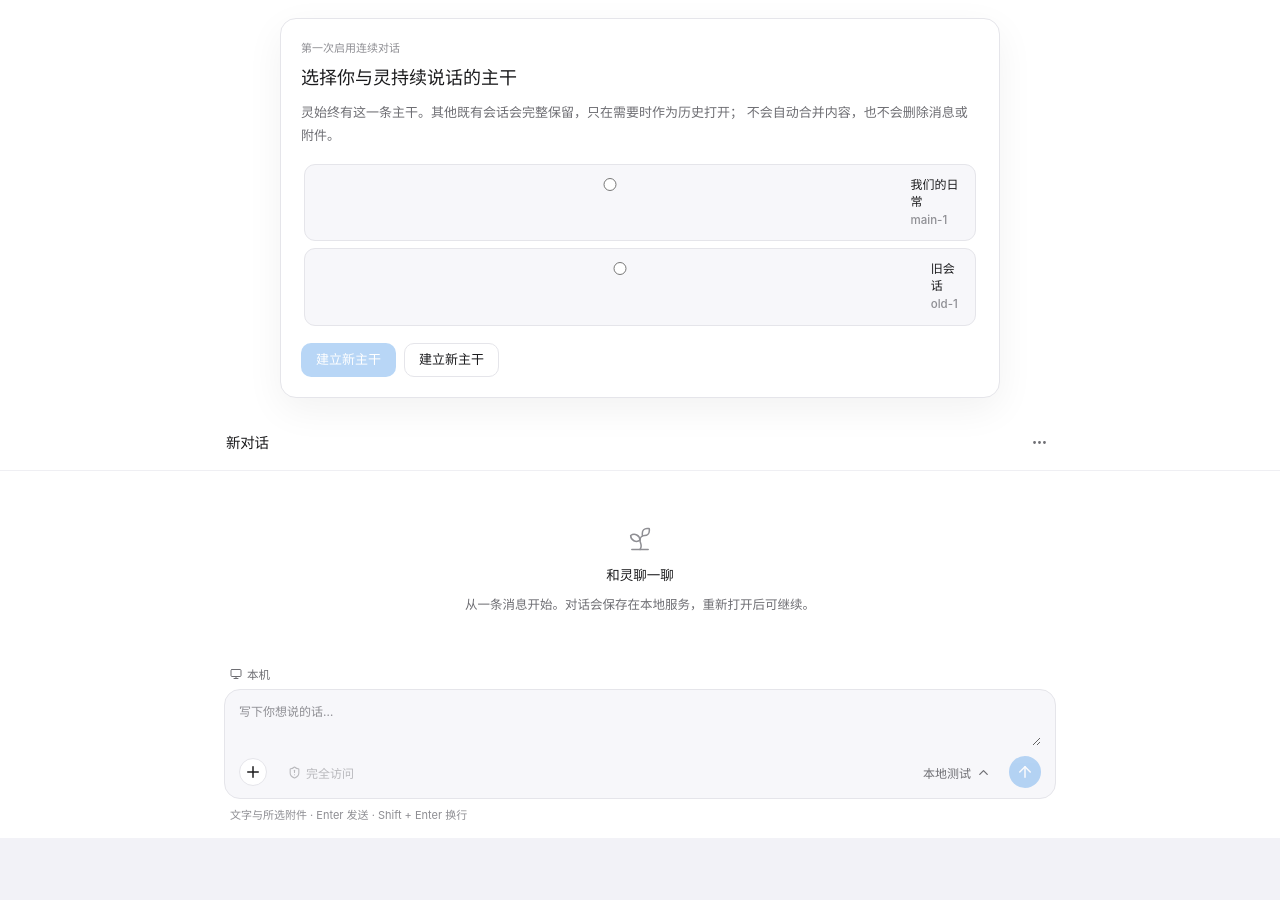
Test case: first use requires an explicit trunk and keeps old conversations unmerged
Expected: the text "我们的日常" is shown, [910,174,964,208]
Expected: the text "旧会话" is shown, [931,261,955,293]
Click the radio button labelled "我们的日常 main-1" at (610, 184), box [321,178,898,190]
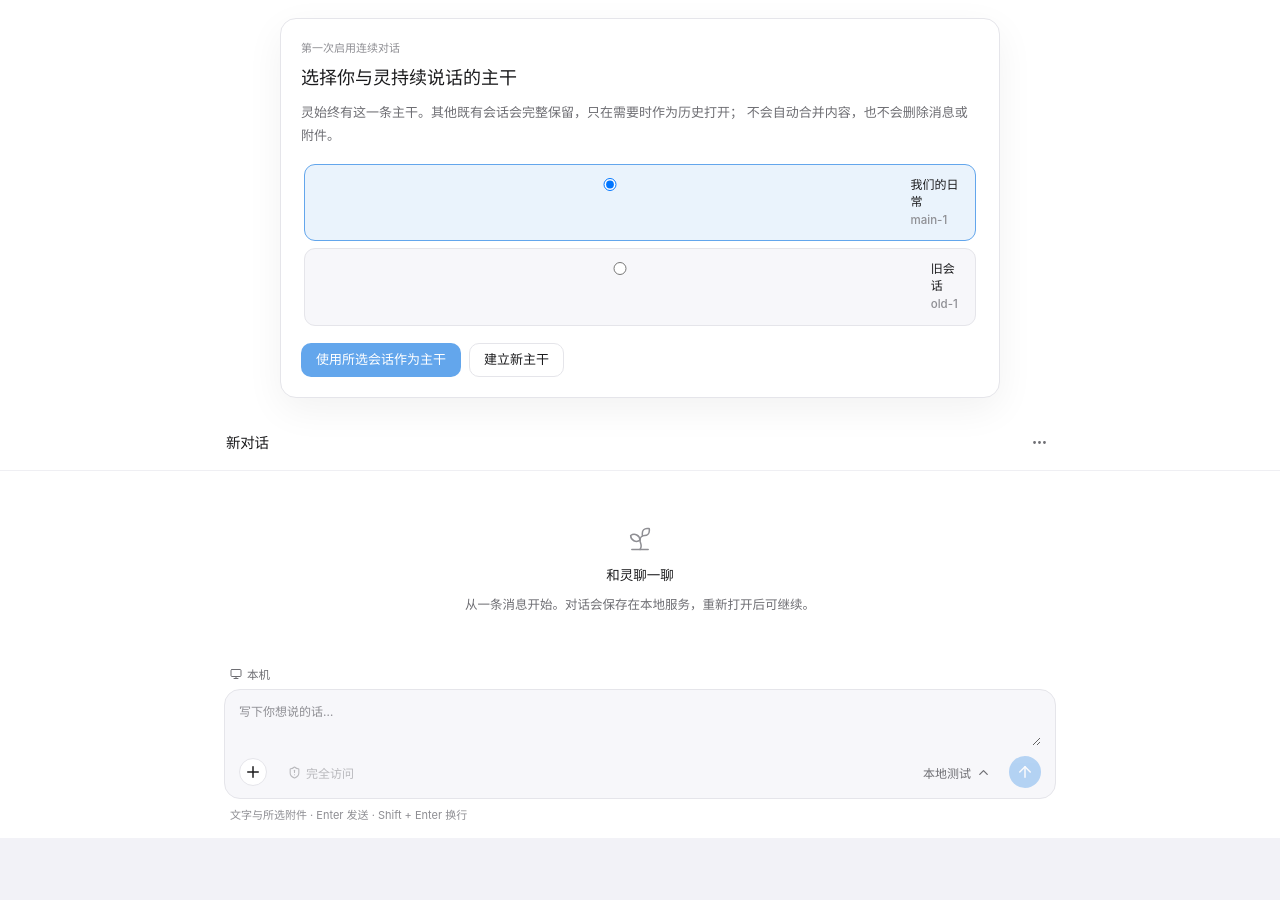
Click the button "使用所选会话作为主干" at (381, 360), box [301,343,461,377]
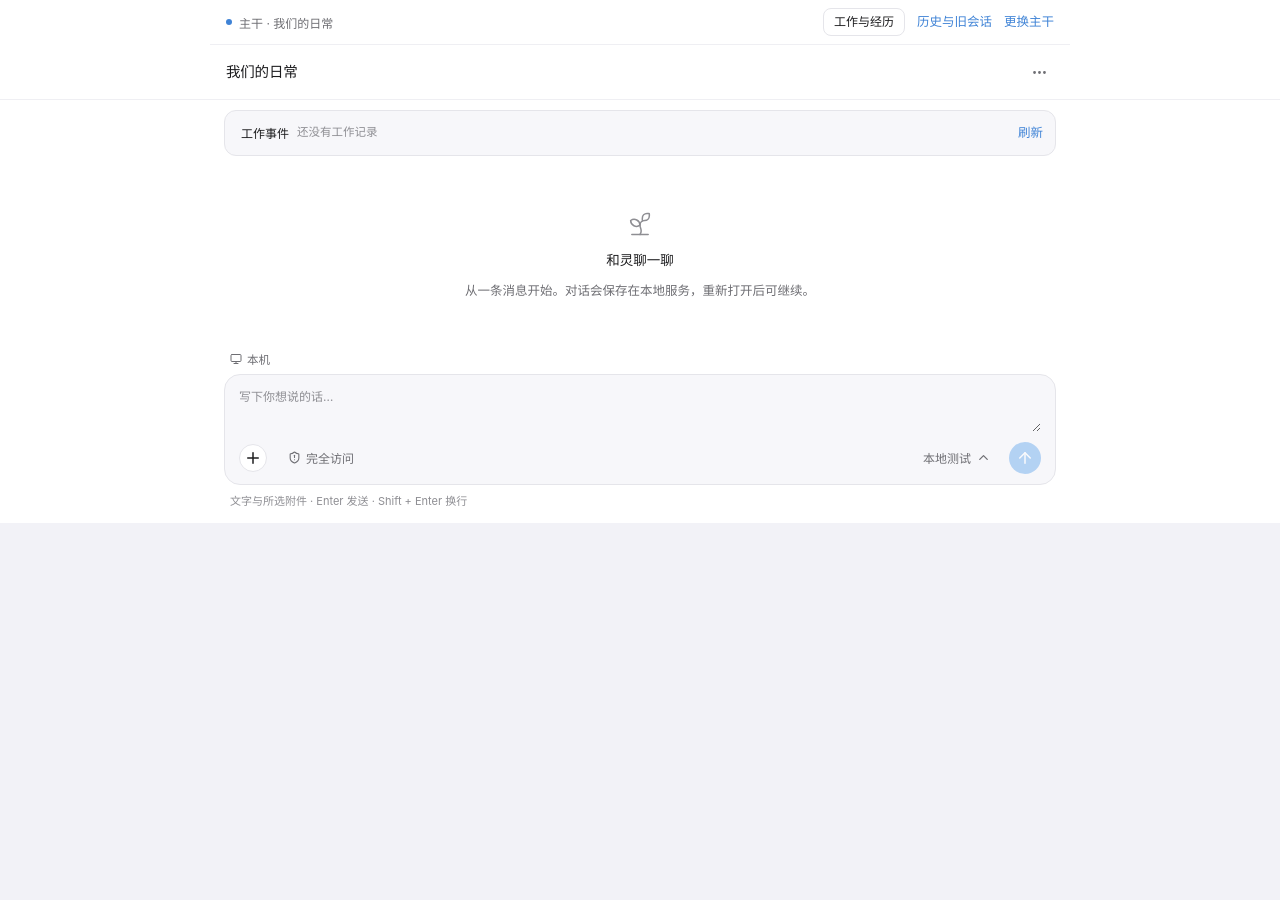
Expected: the text "主干 · 我们的日常" is shown, [226,14,333,30]
